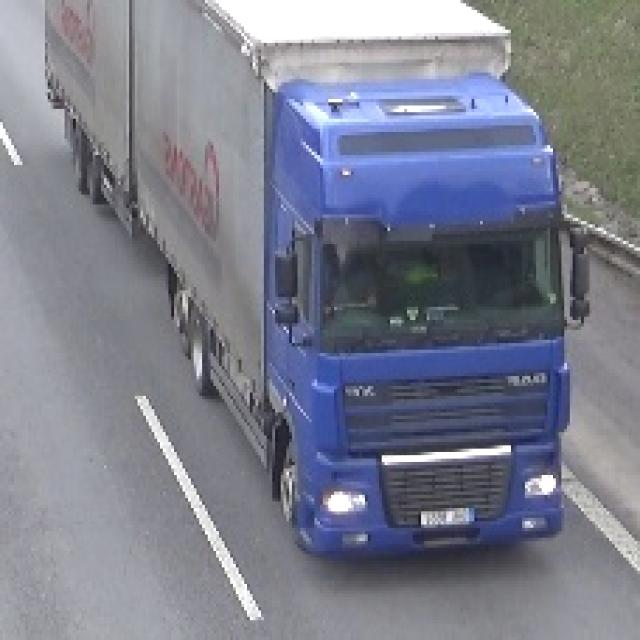TRUCK: (32, 6, 578, 570)
